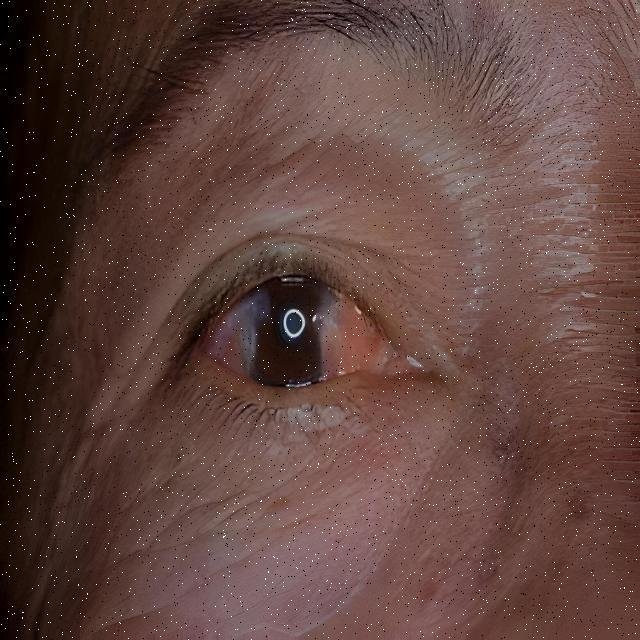Pterygium: (316, 293, 394, 387), (201, 292, 266, 379)
